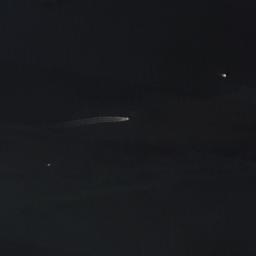boat: (221, 73, 226, 76), (47, 163, 50, 165), (128, 117, 130, 119)
